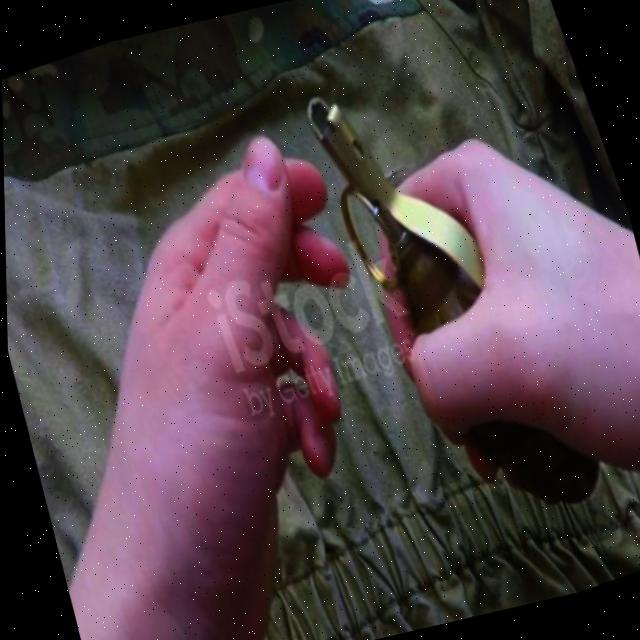grenade: (299, 39, 616, 552)
